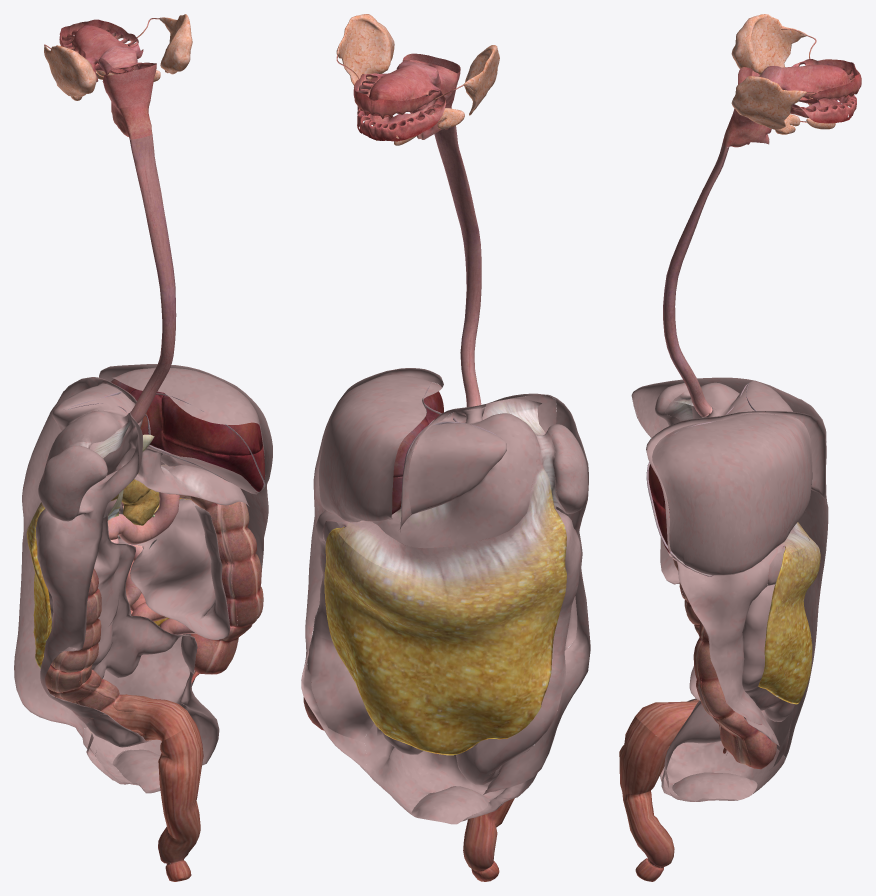
Rendered from digestive.glb.
3 views of the same model, side by side, from view 1: azimuth 30°, elevation 25°; view 2: azimuth 150°, elevation 25°; view 3: azimuth 270°, elevation 25° (orthographic). The views are drawn at different scales.
Visible parts, largest first — view 1: Visceral peritoneum, abdominal#~303186, Parietal peritoneum, abdominal#~303187, Rectum#~001299, Esophagus (oesophagus)#~001248, Parietal peritoneum, pelvic#Male~303183, Sigmoid colon#~001292, Ascending colon#~001286, (VII) Liver, right posterolateral segment#~301470, Descending colon#~001288, Salivary (parotid) gland, L#~001329, Greater omentum, lower portion (visceral peritoneum)#~303209, Duodenum, sectioned (back)#~001274 (+17 smaller); view 2: Visceral peritoneum, abdominal#~303186, Greater omentum, lower portion (visceral peritoneum)#~303209, Parietal peritoneum, abdominal#~303187, Greater omentum, gastrocolic ligament (visceral peritoneum)#, Parietal peritoneum, pelvic#Male~303183, Esophagus (oesophagus)#~001248, Gingiva#~001258, Salivary (parotid) gland, R#~001320, Visceral peritoneum, pelvic#Male~303181, Rectum#~001299, Salivary (parotid) gland, L#~001329, Hard palate (roof of mouth, bony palate)#~001254 (+5 smaller); view 3: Visceral peritoneum, abdominal#~303186, Parietal peritoneum, abdominal#~303187, Greater omentum, lower portion (visceral peritoneum)#~303209, Rectum#~001299, Parietal peritoneum, pelvic#Male~303183, Esophagus (oesophagus)#~001248, Salivary (parotid) gland, L#~001329, Salivary (parotid) gland, R#~001320, Gingiva#~001258, Visceral peritoneum, pelvic#Male~303181, Cecum (caecum)#~001297, Sigmoid colon#~001292 (+6 smaller).
Part boxes in pixels (<box>): Visceral peritoneum, abdominal#~303186: <box>36,367,265,718</box>; Parietal peritoneum, abdominal#~303187: <box>14,364,272,731</box>; Rectum#~001299: <box>158,723,203,864</box>; Esophagus (oesophagus)#~001248: <box>129,134,176,423</box>; Parietal peritoneum, pelvic#Male~303183: <box>75,672,219,793</box>; Sigmoid colon#~001292: <box>47,669,195,741</box>; Ascending colon#~001286: <box>190,496,263,627</box>; (VII) Liver, right posterolateral segment#~301470: <box>161,394,262,455</box>; Descending colon#~001288: <box>45,569,101,692</box>; Salivary (parotid) gland, L#~001329: <box>44,45,96,96</box>; Greater omentum, lower portion (visceral peritoneum)#~303209: <box>26,498,191,668</box>; Duodenum, sectioned (back)#~001274: <box>107,492,179,544</box>; Visceral peritoneum, abdominal#~303186: <box>307,374,588,774</box>; Greater omentum, lower portion (visceral peritoneum)#~303209: <box>324,527,566,755</box>; Parietal peritoneum, abdominal#~303187: <box>301,368,590,794</box>; Greater omentum, gastrocolic ligament (visceral peritoneum)#: <box>337,464,564,587</box>; Parietal peritoneum, pelvic#Male~303183: <box>364,723,537,821</box>; Esophagus (oesophagus)#~001248: <box>434,125,481,407</box>; Gingiva#~001258: <box>353,73,445,141</box>; Salivary (parotid) gland, R#~001320: <box>336,14,394,85</box>; Visceral peritoneum, pelvic#Male~303181: <box>411,786,489,824</box>; Rectum#~001299: <box>463,798,514,870</box>; Salivary (parotid) gland, L#~001329: <box>463,45,499,115</box>; Hard palate (roof of mouth, bony palate)#~001254: <box>369,68,432,101</box>; Visceral peritoneum, abdominal#~303186: <box>632,381,812,738</box>; Parietal peritoneum, abdominal#~303187: <box>631,377,828,770</box>; Greater omentum, lower portion (visceral peritoneum)#~303209: <box>758,522,820,704</box>; Rectum#~001299: <box>619,716,674,867</box>; Parietal peritoneum, pelvic#Male~303183: <box>660,698,784,801</box>; Esophagus (oesophagus)#~001248: <box>663,142,729,416</box>; Salivary (parotid) gland, L#~001329: <box>731,14,806,75</box>; Salivary (parotid) gland, R#~001320: <box>731,76,806,129</box>; Gingiva#~001258: <box>792,59,861,123</box>; Visceral peritoneum, pelvic#Male~303181: <box>672,772,757,800</box>; Cecum (caecum)#~001297: <box>713,712,776,769</box>; Sigmoid colon#~001292: <box>635,700,699,746</box>.
Size of the model in its own units: 0.652 by 2.1 by 0.5538.
Materials: 7 (7 with a texture image).
